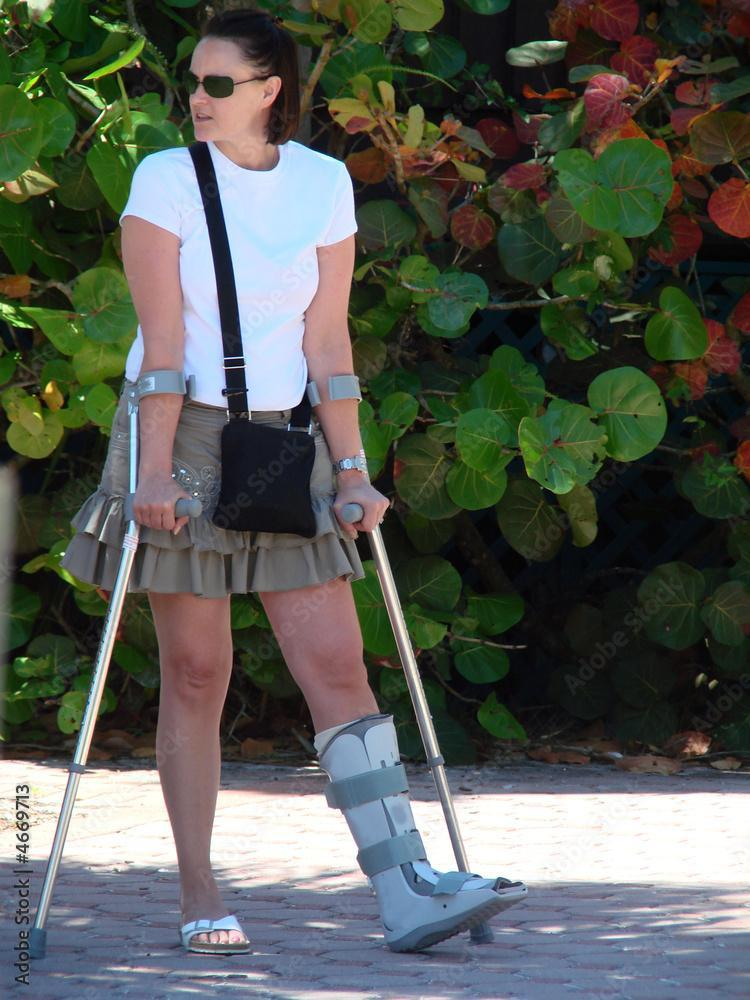crutches: (0, 7, 526, 969)
